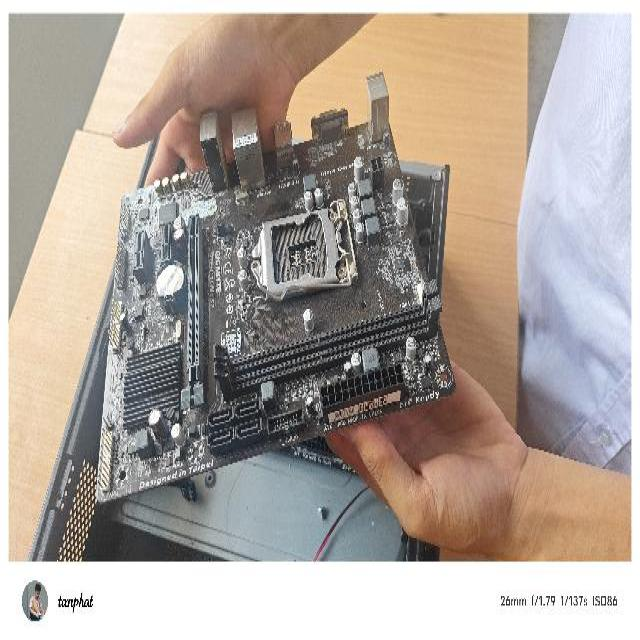Mainboard: (82, 54, 496, 508)
